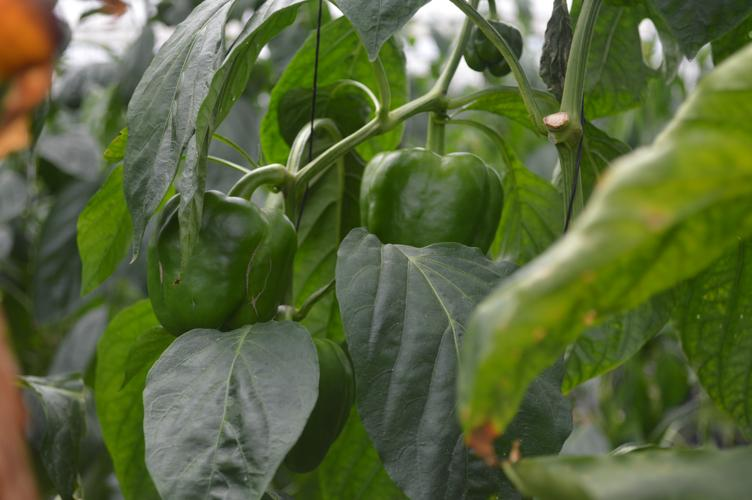BellPepper: (142, 194, 301, 329), (351, 146, 506, 248), (264, 338, 355, 469), (457, 22, 525, 76)
